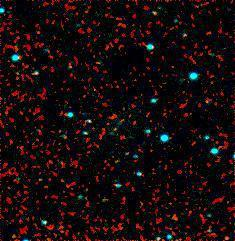star: (99, 108, 129, 138)
